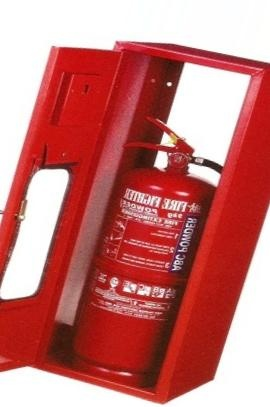fire_extinguisher: (71, 114, 224, 380)
